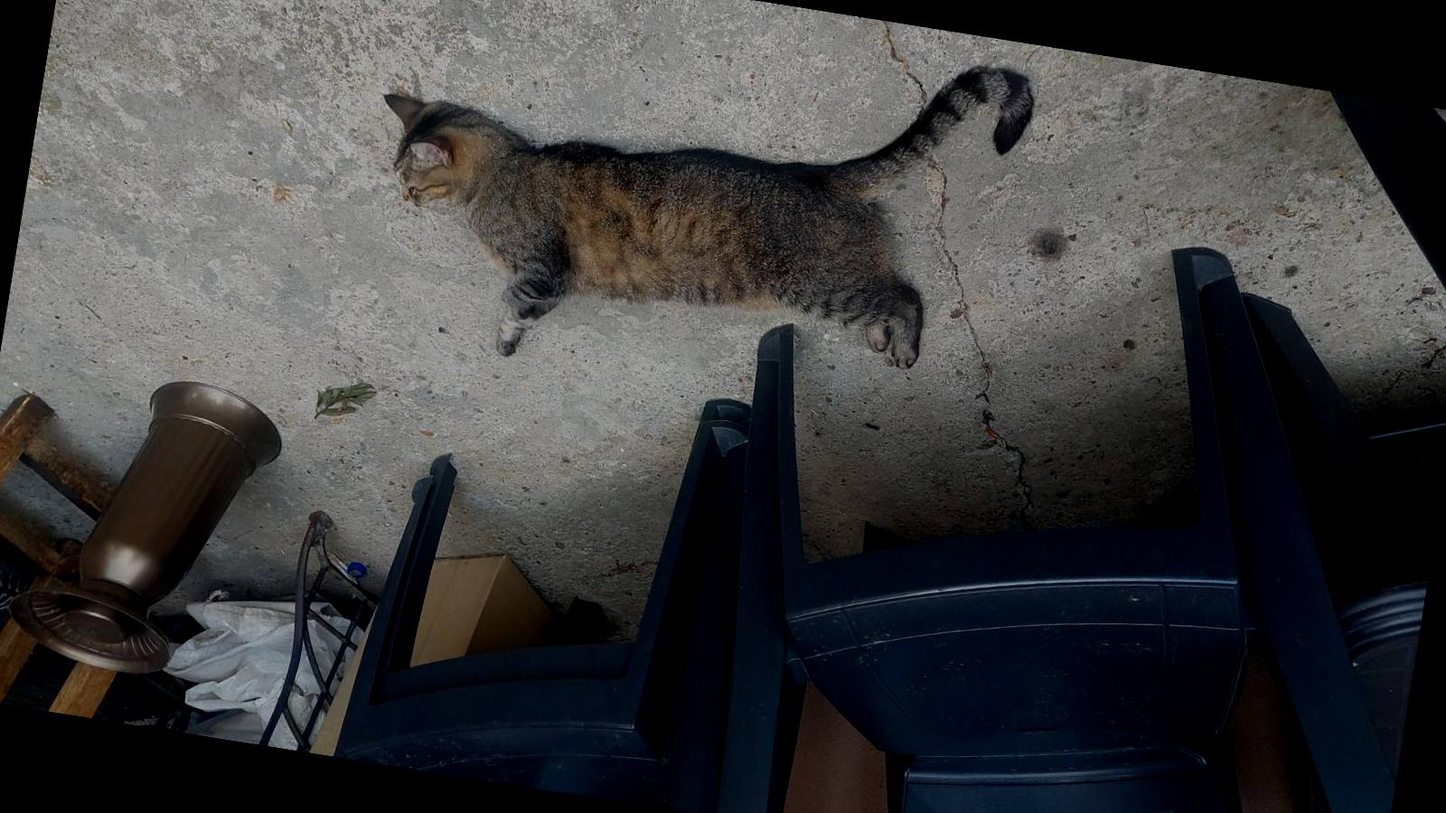macka: (343, 0, 1038, 434)
